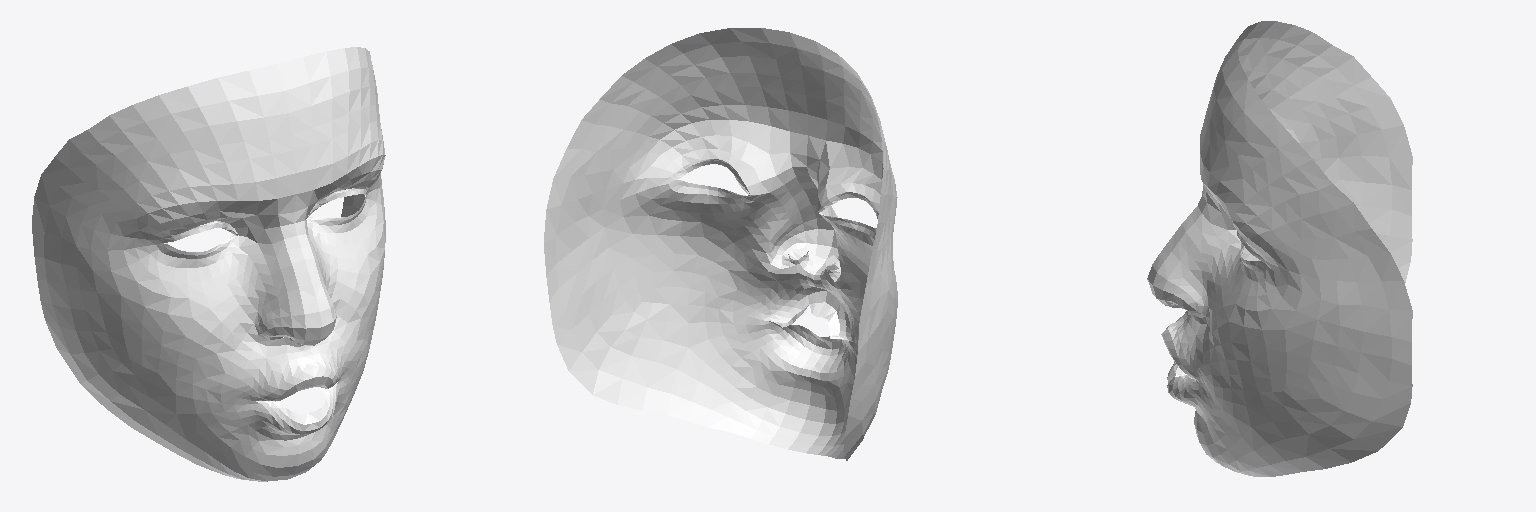
Rendered from mouthFunnel.obj.
3 renders of one model, left to right at view 1: azimuth 30°, elevation 25°; view 2: azimuth 150°, elevation 25°; view 3: azimuth 270°, elevation 25°, orthographic.
Parts seen in each view (by area): view 1: default; view 2: default; view 3: default.
Boxes of the visible parts, x1,y1,x2,y2 form: default: [32, 47, 385, 481]; default: [544, 28, 897, 460]; default: [1147, 21, 1412, 476].
Size of the model in its own units: 0.1447 by 0.1802 by 0.1042.